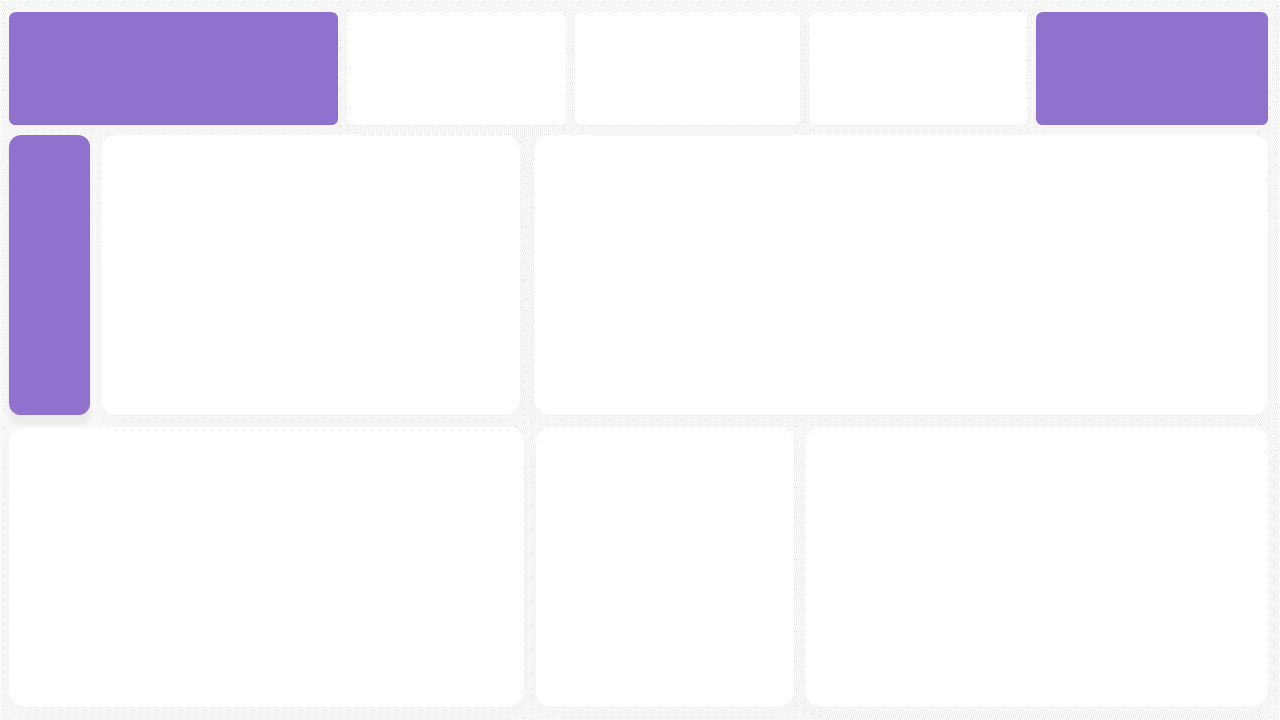

The dashboard page shown, as its layout file describes it:
{"tool":"powerbi","page":{"name":"TooltipSalario","canvas":[320,240],"ordinal":3},"visuals":[{"type":"multiRowCard","fields":{"Values":["tbCalculos.Folha Salarial"]},"box":[11,89,142,61],"z":0},{"type":"multiRowCard","fields":{"Values":["tbCalculos.% Crescimento YoY"]},"box":[11,164,142,61],"z":1000},{"type":"card","fields":{"Values":["Max(tbCalendario.Ano)"]},"box":[85,0,151,61],"z":2000},{"type":"donutChart","fields":{"Category":["tbGenero.Gênero"],"Y":["tbCalculos.Colaboradores Ativos"]},"box":[134,61,186,179],"z":3000}]}

Visuals, with their boxes on the page's 320x240 design canvas (x1, y1, x2, y2). These are canvas units, not pixel positions in the 1280x720 screenshot, which may show the page scaled, cropped or inside an application window:
multiRowCard - tbCalculos.Folha Salarial: (left=11, top=89, right=153, bottom=150)
multiRowCard - tbCalculos.% Crescimento YoY: (left=11, top=164, right=153, bottom=225)
card - Max(tbCalendario.Ano): (left=85, top=0, right=236, bottom=61)
donutChart - tbGenero.Gênero x tbCalculos.Colaboradores Ativos: (left=134, top=61, right=320, bottom=240)
